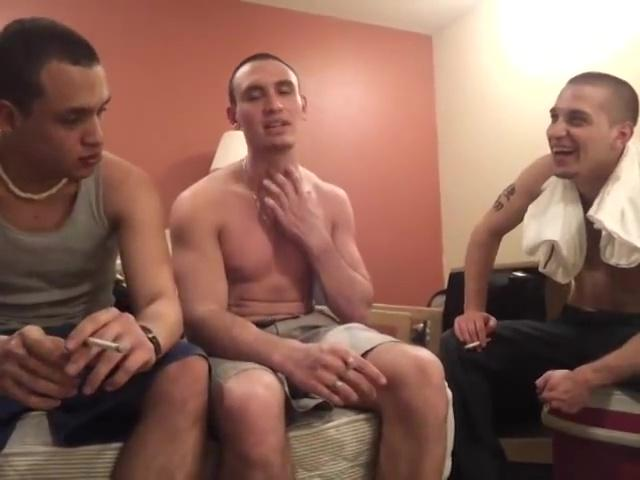cigarette: (82, 335, 129, 358), (464, 339, 493, 350)
